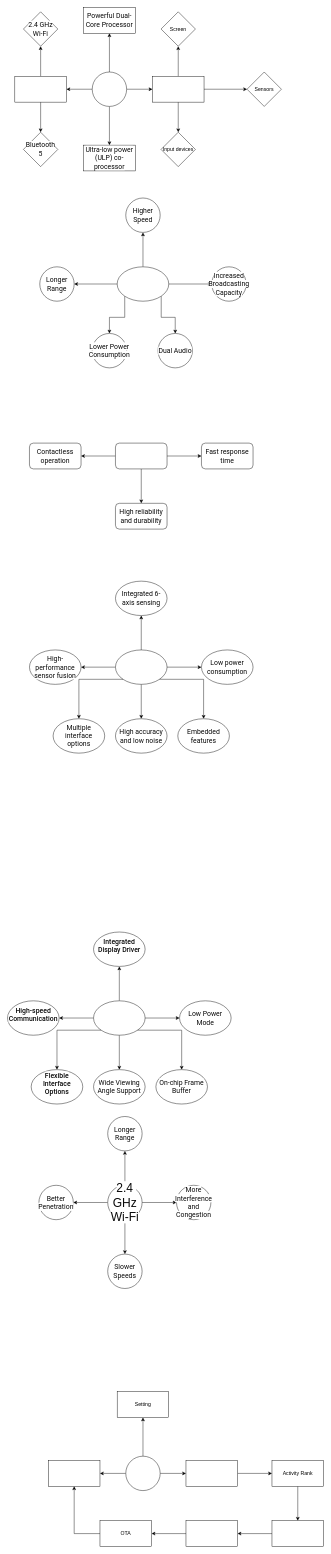
Image size: 331x1554. Some labels were removed from this diagram. The shapes that lost their labels are listed below. From the top down, each one's centre as x and y in pixels, then its label:
(x=40, y=89): Comprehensive wireless connectivity
(x=109, y=89): ESP32-S3
(x=178, y=89): Extensive GPIO and peripherals
(x=143, y=283): Bluetooth DX 5.0
(x=141, y=456): Hall Effect Sensor
(x=141, y=667): QMI8658
(x=119, y=1017): ST7789v2
(x=74, y=1473): Calendar
(x=142, y=1473): Home
(x=212, y=1473): Activity
(x=212, y=1533): Feedback
(x=298, y=1533): Weather
